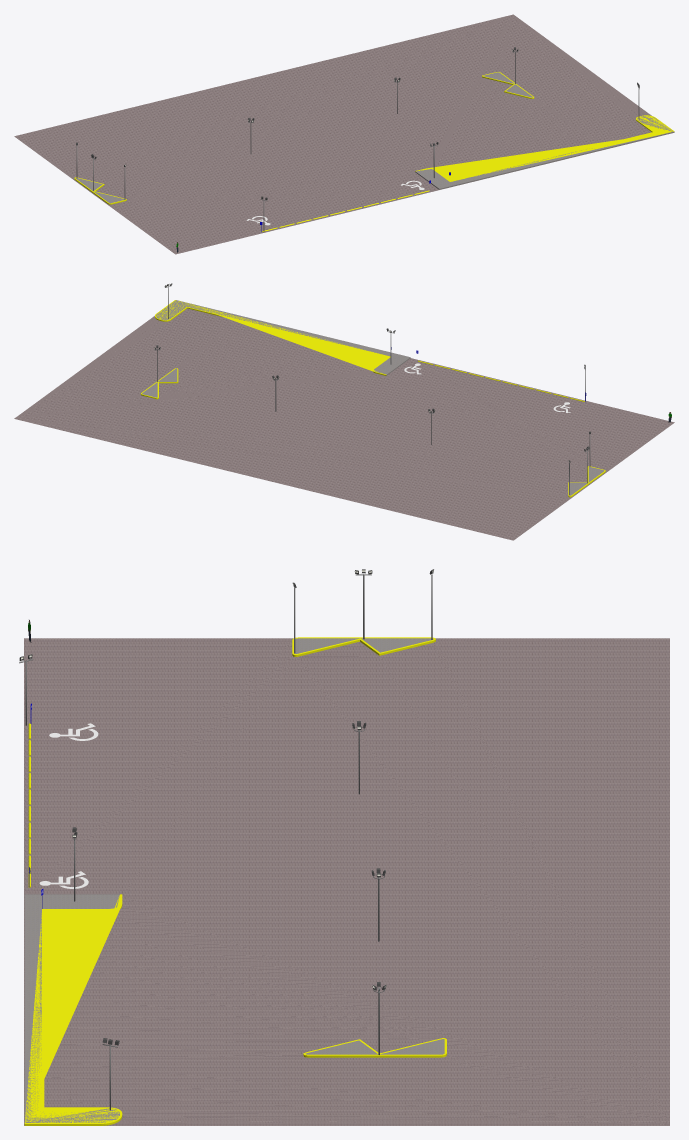
The model's file is estacionamiento.fbx.
The picture shows the model from 3 angles, top to bottom: view 1: azimuth 30°, elevation 25°; view 2: azimuth 150°, elevation 25°; view 3: azimuth 270°, elevation 25°; orthographic projection. The views are drawn at different scales.
Parts seen in each view (by area): view 1: Model; view 2: Model; view 3: Model.
Boxes of the visible parts, x1,y1,x2,y2 form: Model: (14, 14, 674, 254); Model: (14, 300, 674, 540); Model: (24, 637, 669, 1125).
Size of the model in its own units: 81.18 by 5.62 by 45.8.
